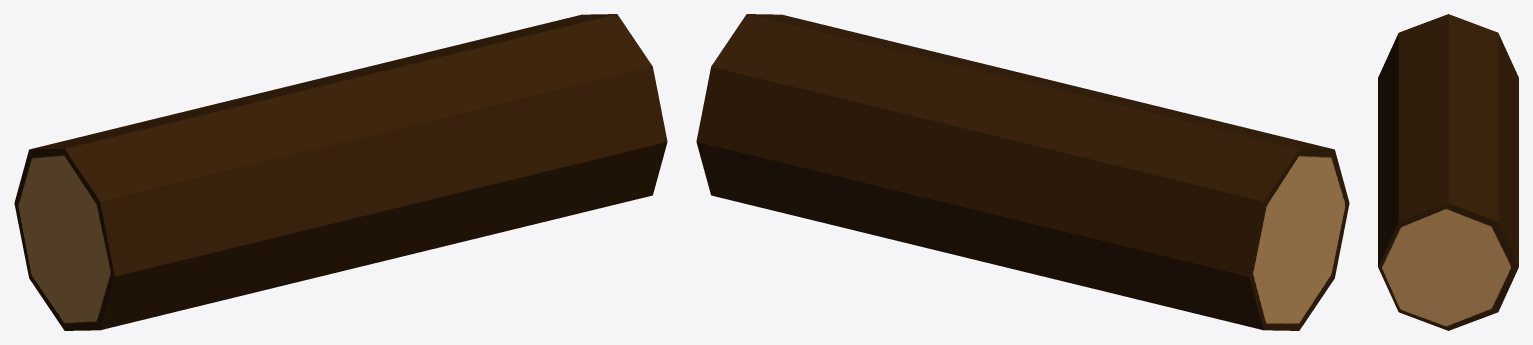
The model's file is Log.fbx.
3 views of the same model, side by side, from view 1: azimuth 30°, elevation 25°; view 2: azimuth 150°, elevation 25°; view 3: azimuth 270°, elevation 25° (orthographic). The views are drawn at different scales.
Parts seen in each view (by area): view 1: pCylinder1; view 2: pCylinder1; view 3: pCylinder1.
Boxes of the visible parts, x1,y1,x2,y2 form: pCylinder1: [14, 14, 667, 330]; pCylinder1: [696, 14, 1349, 330]; pCylinder1: [1378, 14, 1518, 330].
Bounding box in the file's own units: 0.7116 × 0.2241 × 0.2241.
